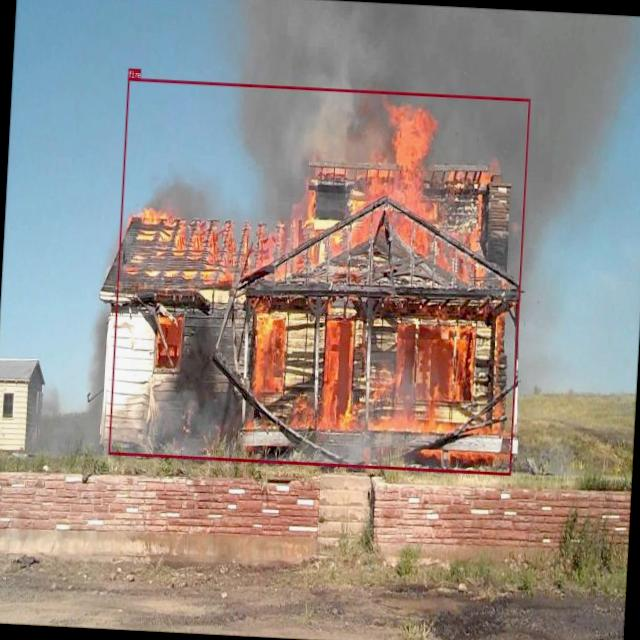fire: (108, 78, 530, 475)
